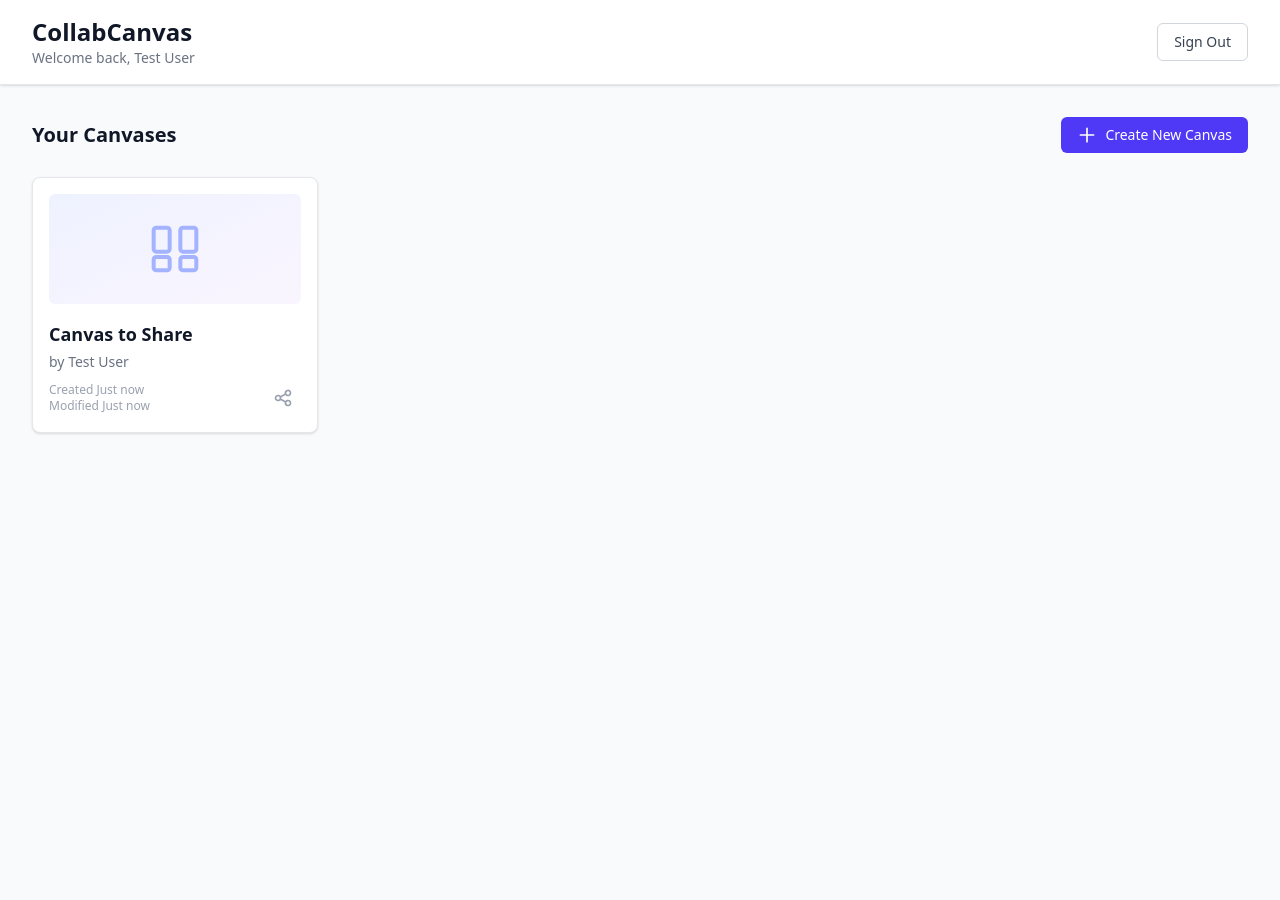
Test: Dashboard Flow Integration Tests › should copy share link to clipboard
The image size is (1280, 900).
Check: the heading "Canvas to Share" is shown, box [49,322,193,346]
Note: Open share modal
Click the button named "share canvas to share" at (283, 398), box [265,380,301,416]
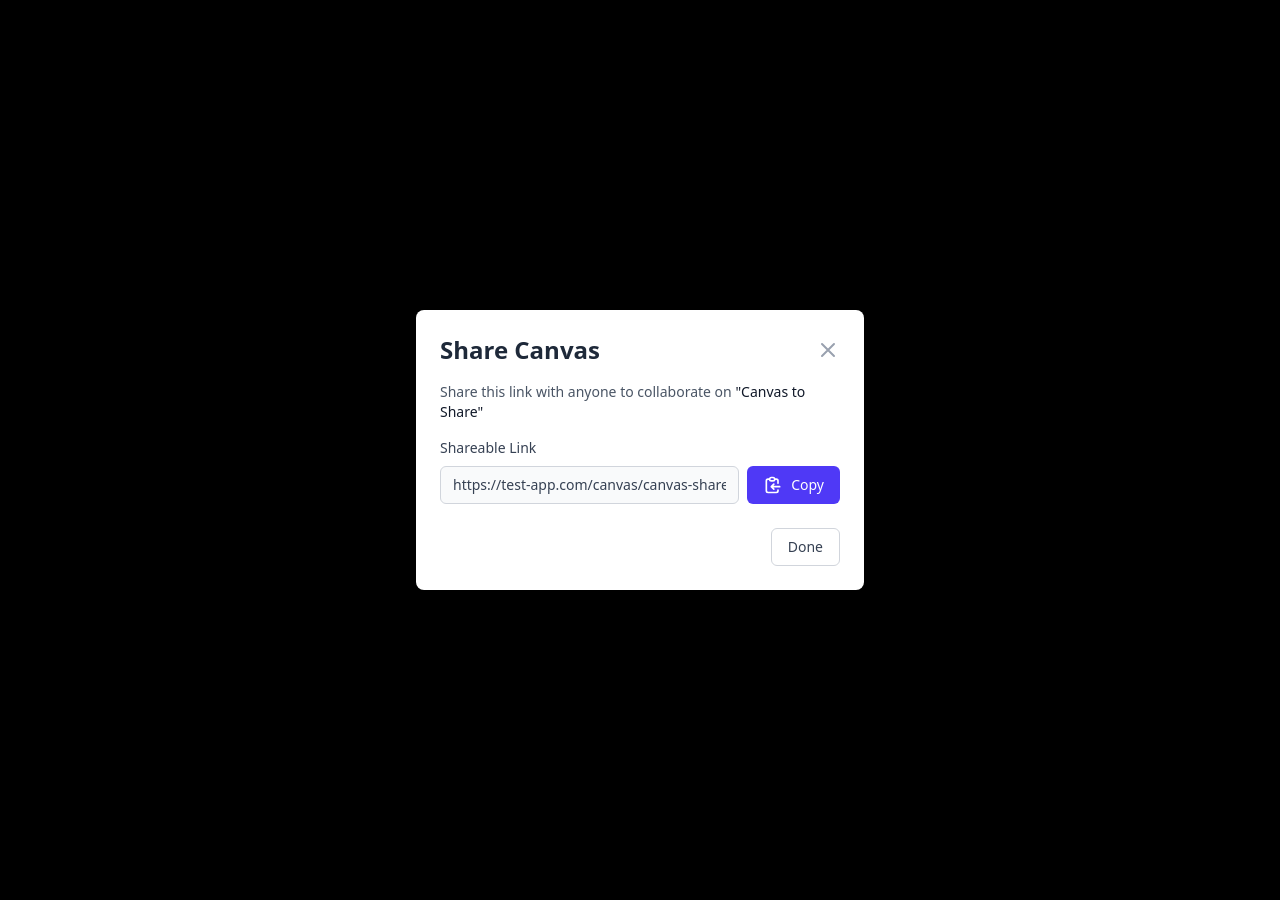
Check: the dialog "Share Canvas" is shown
Note: Click copy button
Click the button "Copy" at (794, 485), box [747,466,840,504]
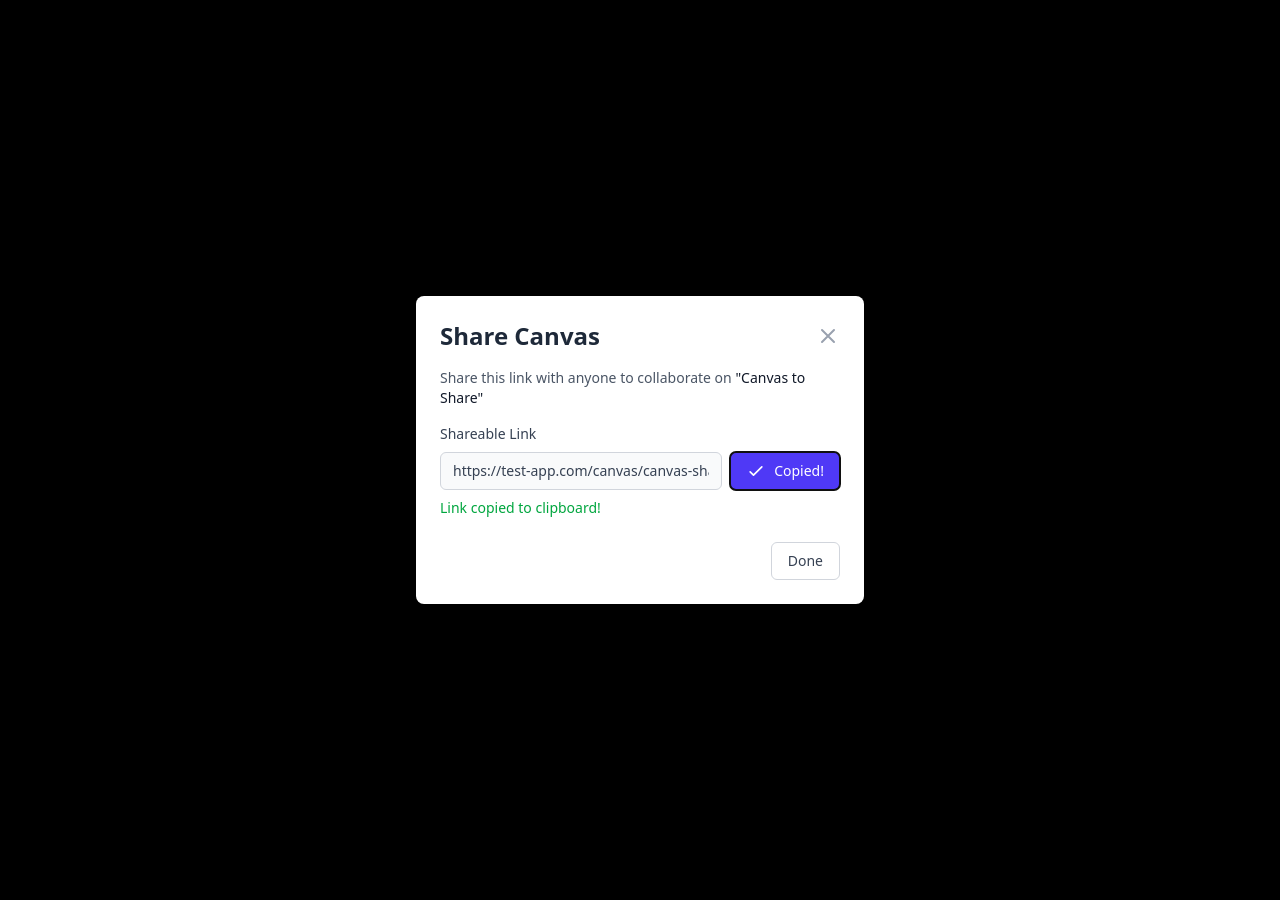
Check: the button "Copied!" is shown, box [730,452,840,490]
